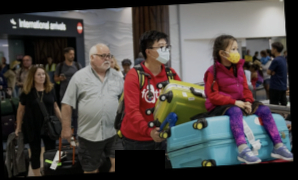with_mask: (150, 42, 171, 63), (225, 43, 242, 65)
without_mask: (96, 51, 113, 71), (34, 71, 47, 84), (20, 56, 32, 68), (66, 50, 75, 62), (122, 62, 132, 72)
